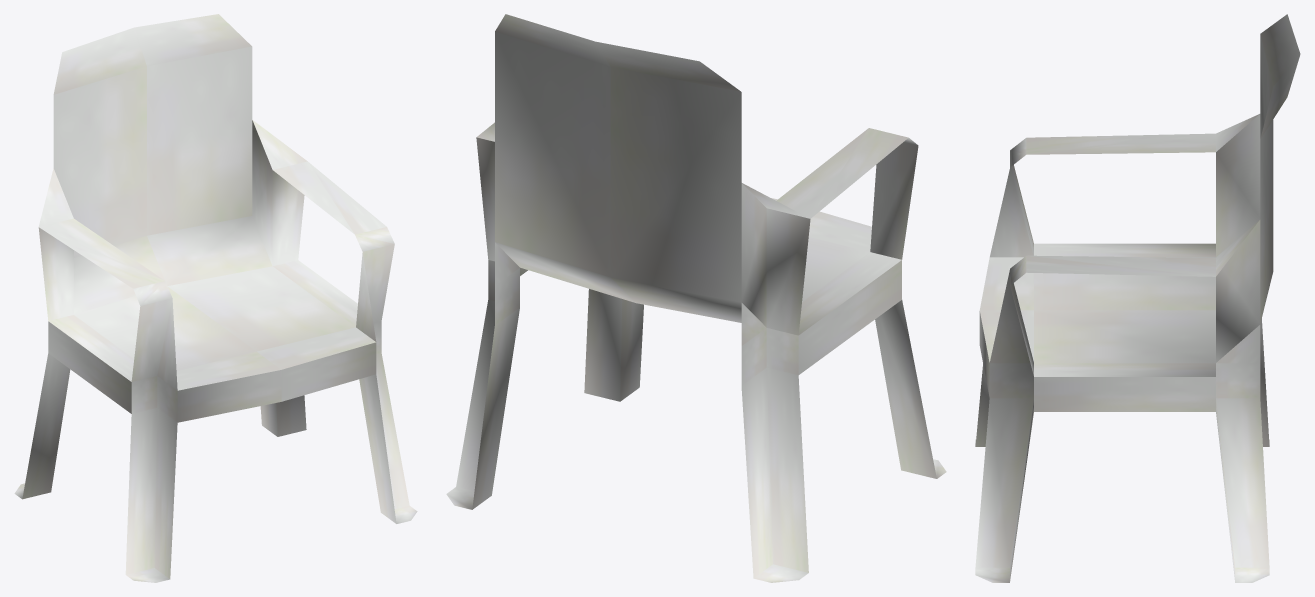
The model's file is UDC_ChairPlastic.obj.
3 views of the same model, side by side, from view 1: azimuth 30°, elevation 25°; view 2: azimuth 150°, elevation 25°; view 3: azimuth 270°, elevation 25° (orthographic). The views are drawn at different scales.
Visible parts, largest first — view 1: UDC_ChairPlastic; view 2: UDC_ChairPlastic; view 3: UDC_ChairPlastic.
Part boxes in pixels (x1=…): UDC_ChairPlastic: x1=14, y1=14, x2=417, y2=582; UDC_ChairPlastic: x1=446, y1=14, x2=946, y2=582; UDC_ChairPlastic: x1=975, y1=14, x2=1300, y2=582.
Size of the model in its own units: 0.2621 by 0.3659 by 0.2379.
Materials: 1 (1 with a texture image).
